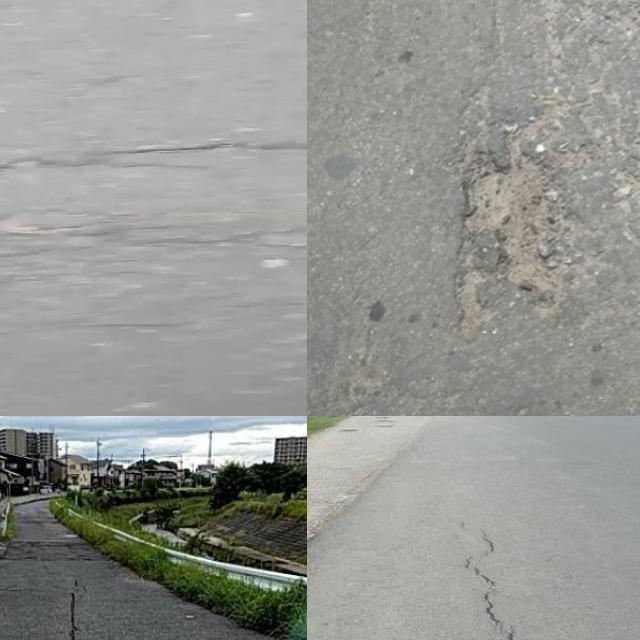Lubang: (448, 142, 594, 322)
Melintang: (0, 125, 307, 188)
Memanjang: (460, 525, 521, 640)
